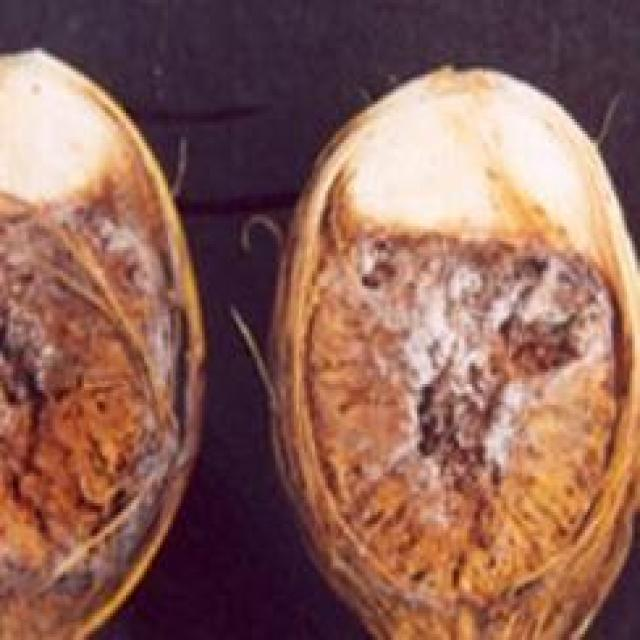damaged: (262, 71, 637, 637), (0, 54, 207, 637)
